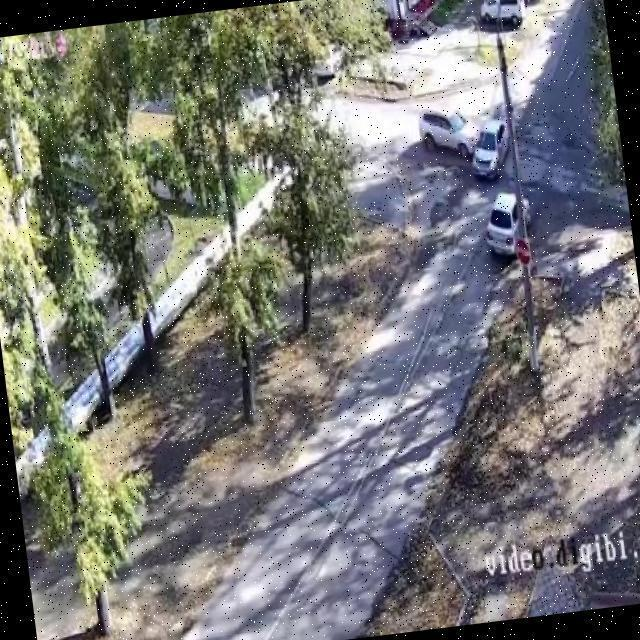accident: (439, 101, 505, 175)
